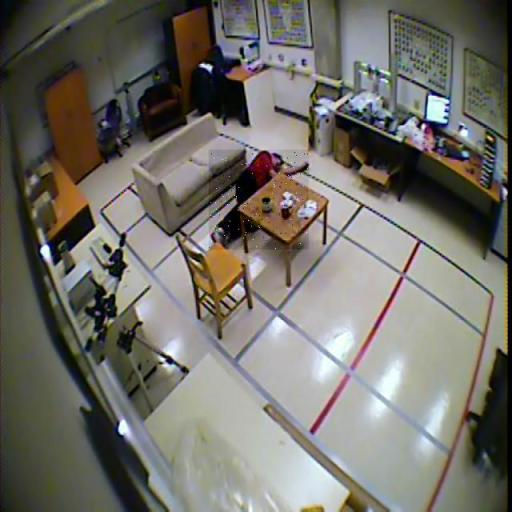Fall: (209, 150, 309, 250)
